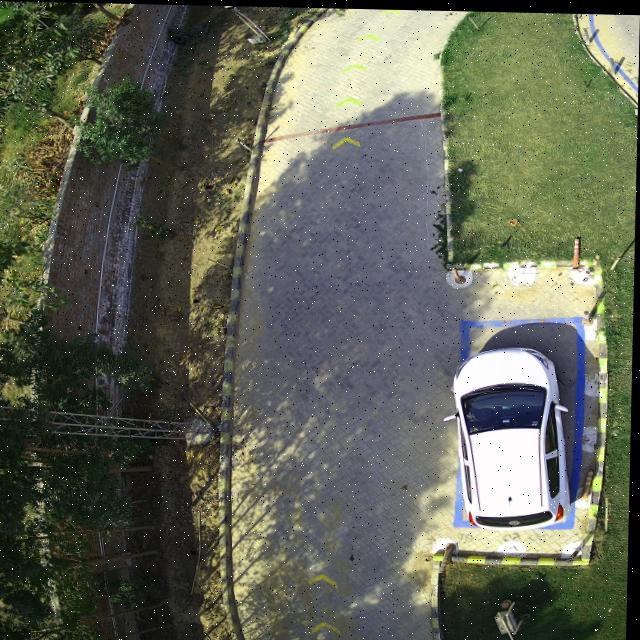car: (455, 344, 573, 527)
